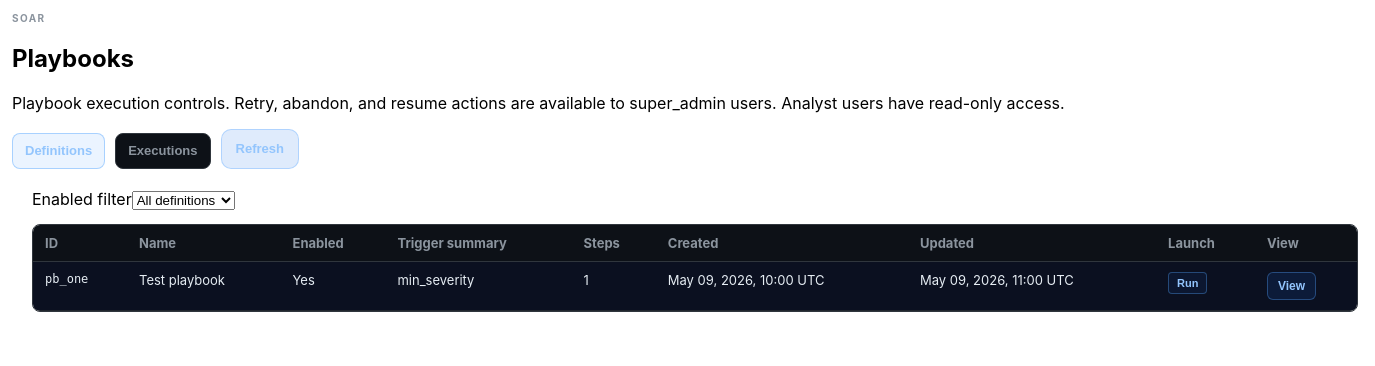
Test: renders executions after switching panel
Expected: the text "pb_one" is shown, [33,261,127,310]
Click the button "Executions" at (163,151), box [115,133,211,169]
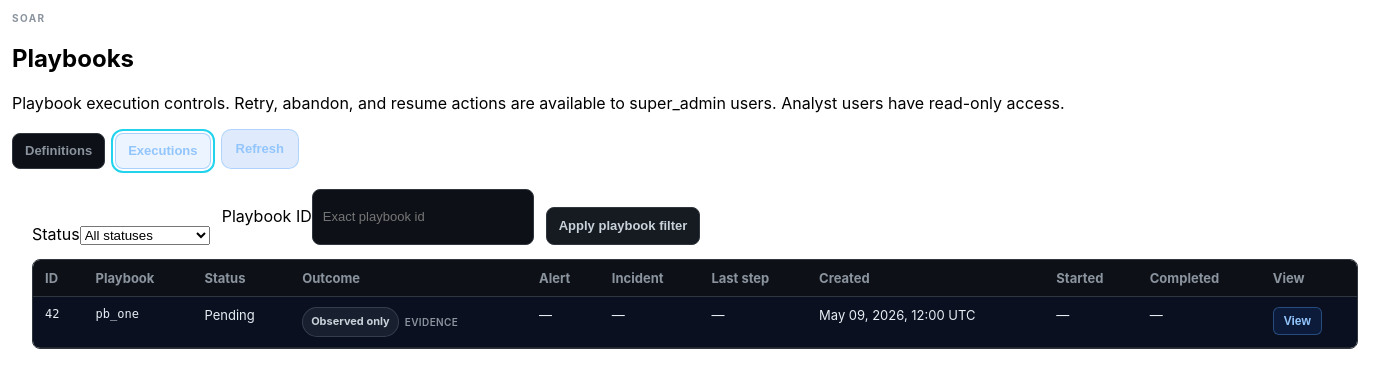
Expected: the text "42" is shown, [33,296,84,347]
Expected: the column heading "Status" is shown, [192,260,290,296]
